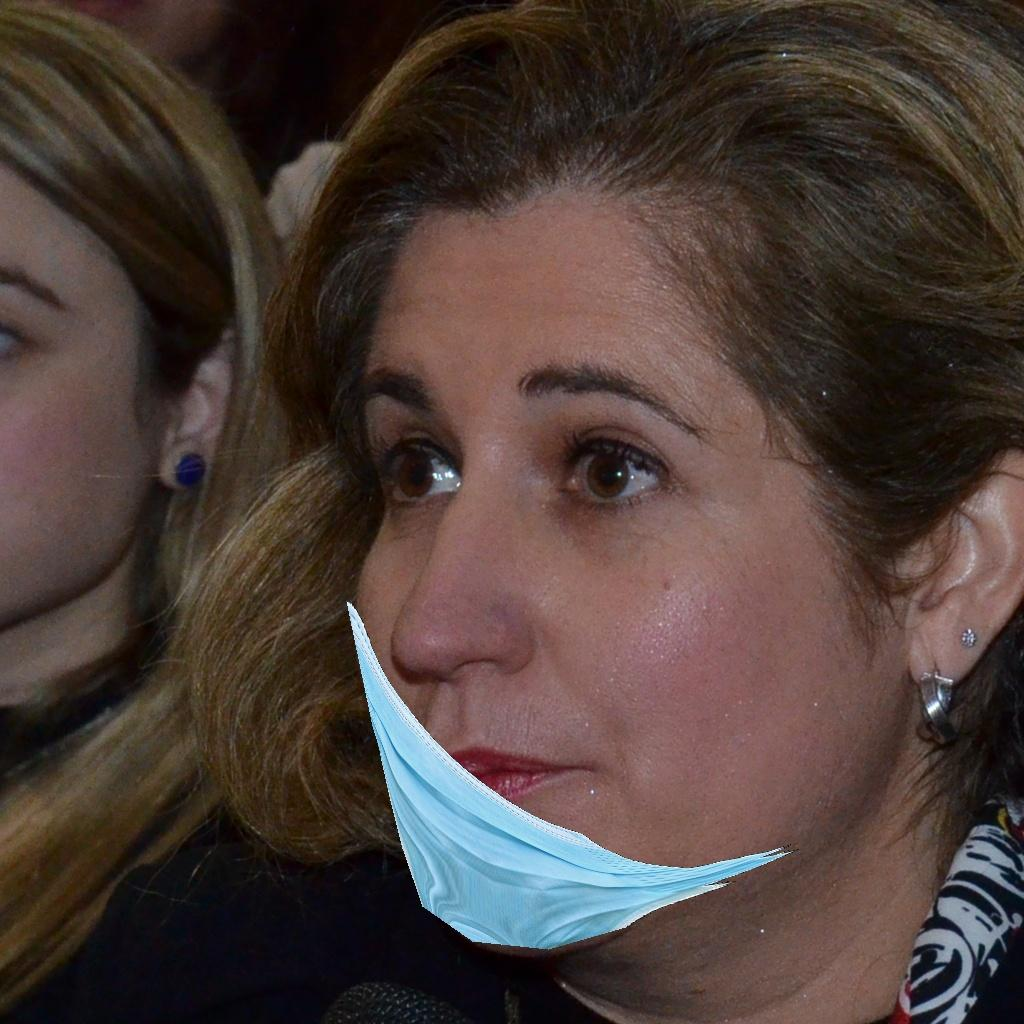Máscara Incorreta: (338, 276, 841, 939)
